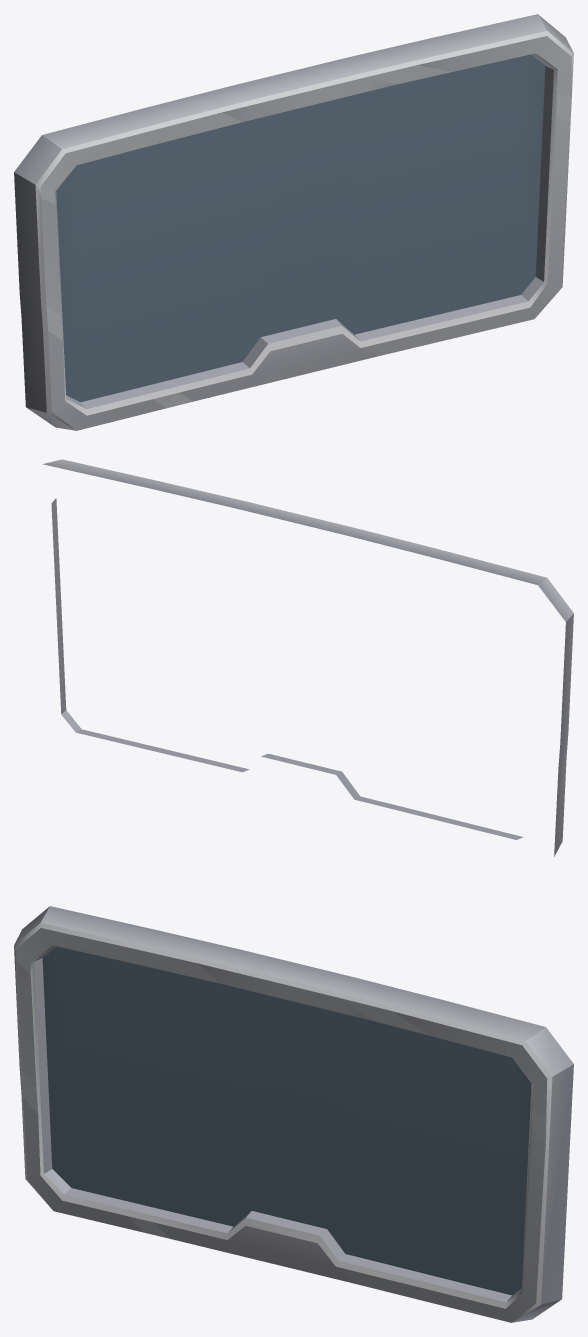
File: TVScreen_2.glb
The picture shows the model from 3 angles, top to bottom: view 1: azimuth 30°, elevation 25°; view 2: azimuth 150°, elevation 25°; view 3: azimuth 330°, elevation 25°; orthographic projection.
Parts seen in each view (by area): view 1: TVScreen; view 2: TVScreen; view 3: TVScreen.
Boxes of the visible parts, box(x1,y1,x2,y2) form: TVScreen: box(14, 14, 573, 430); TVScreen: box(42, 459, 573, 856); TVScreen: box(14, 906, 573, 1322).
Bounding box in the file's own units: 2.5 × 1.29 × 0.1288.
